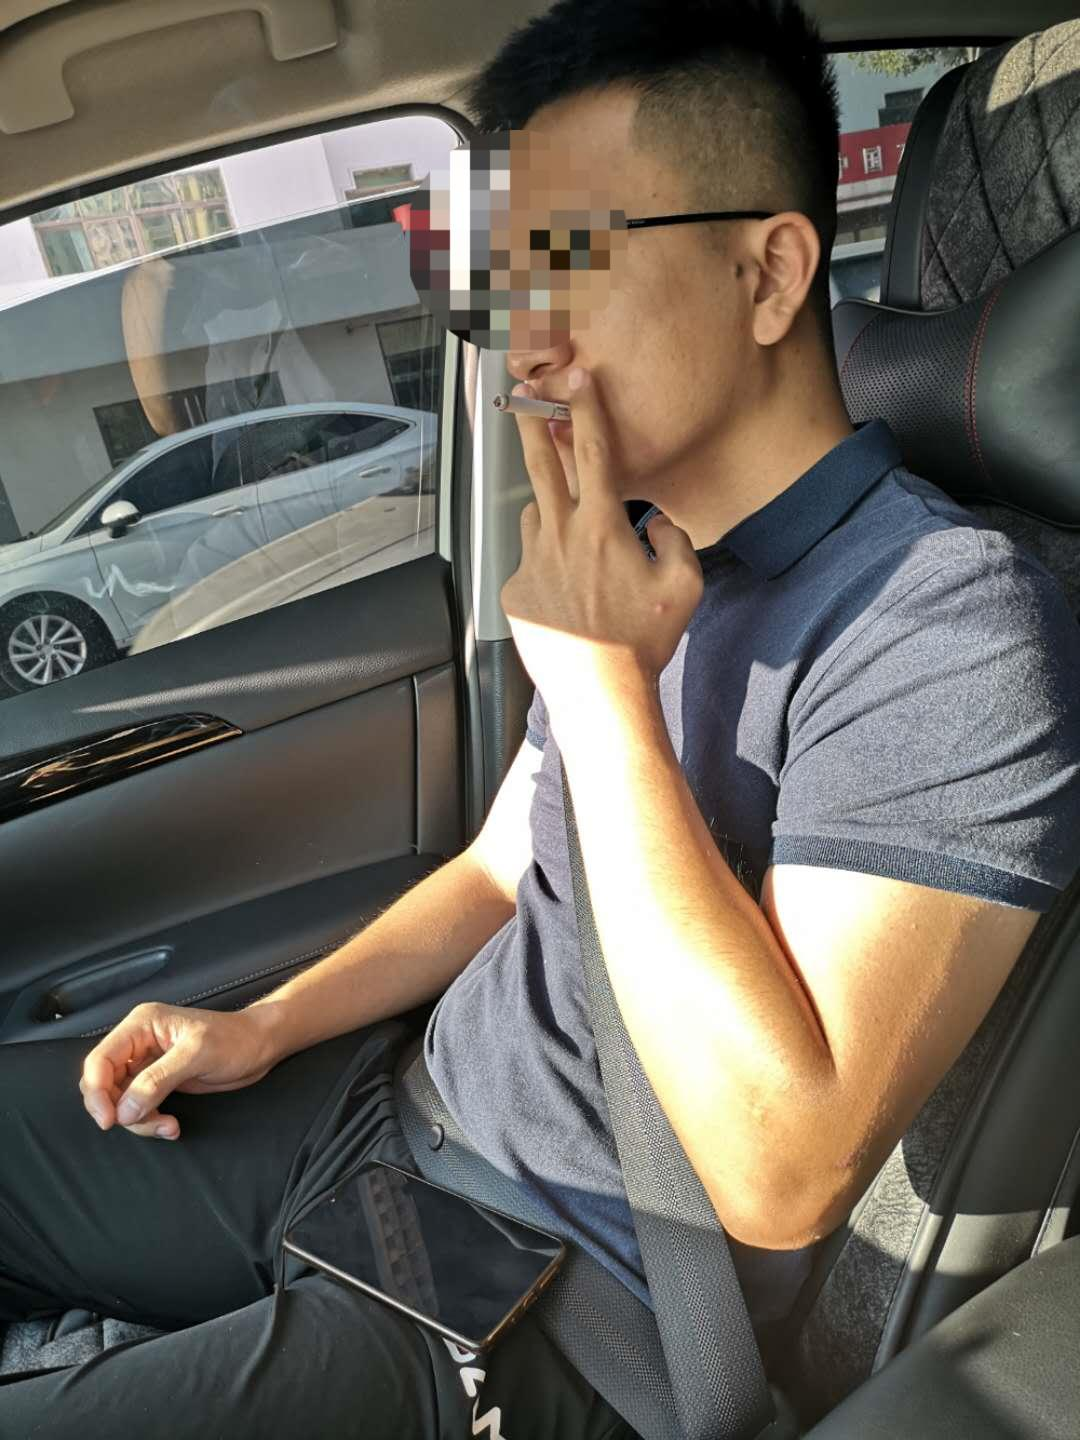smoke: (488, 397, 576, 427)
